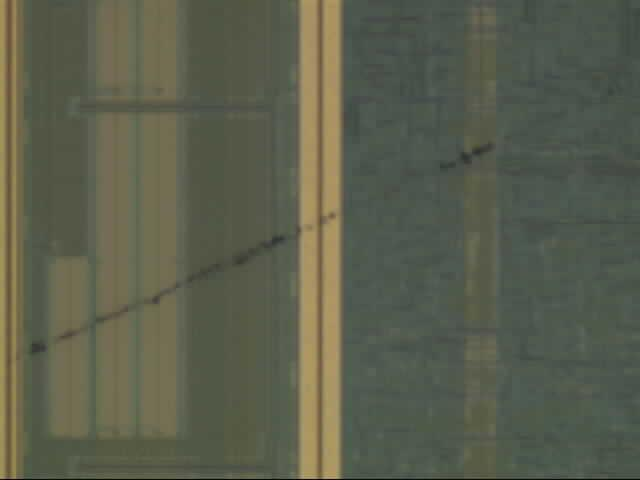SCRATCH: (2, 63, 640, 380)
